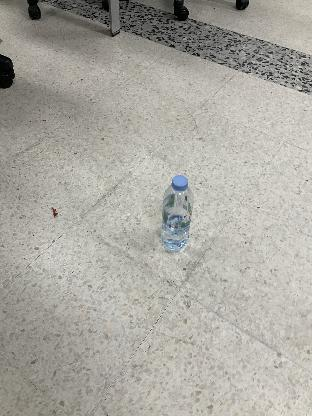Plastic Bottle: (159, 175, 193, 253)
